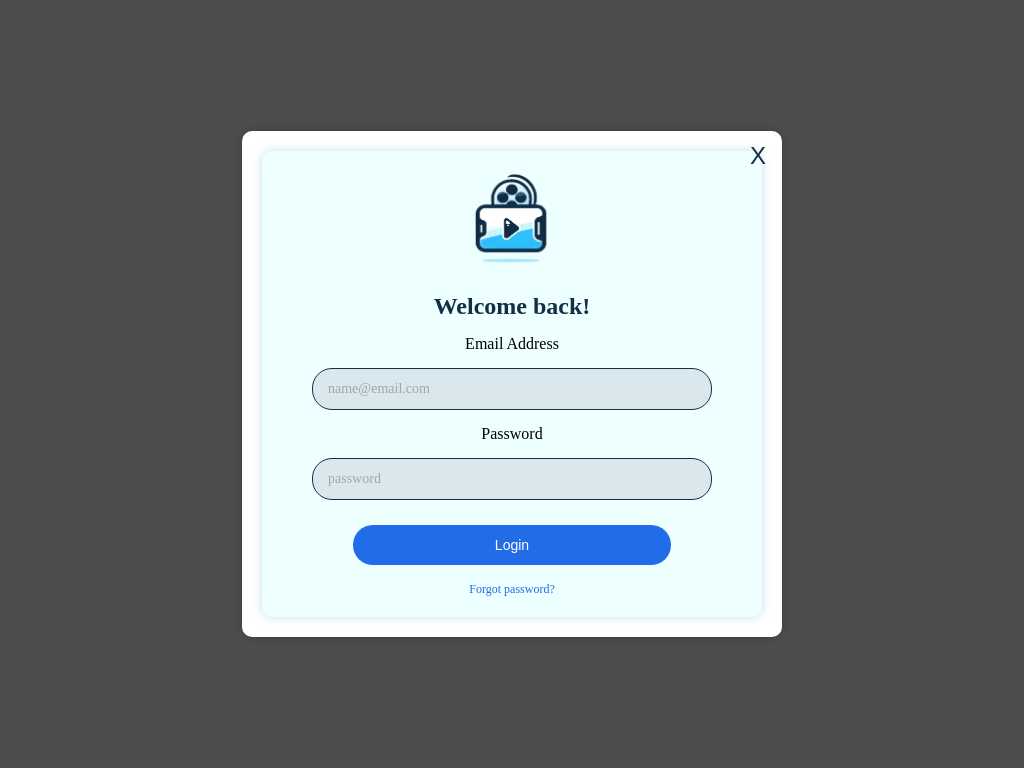
Test: LoginModal › shows error message on failed login
Type "test@example.com" into the field labelled "Email Address". click: (512, 389)
box: [312,368,712,410]
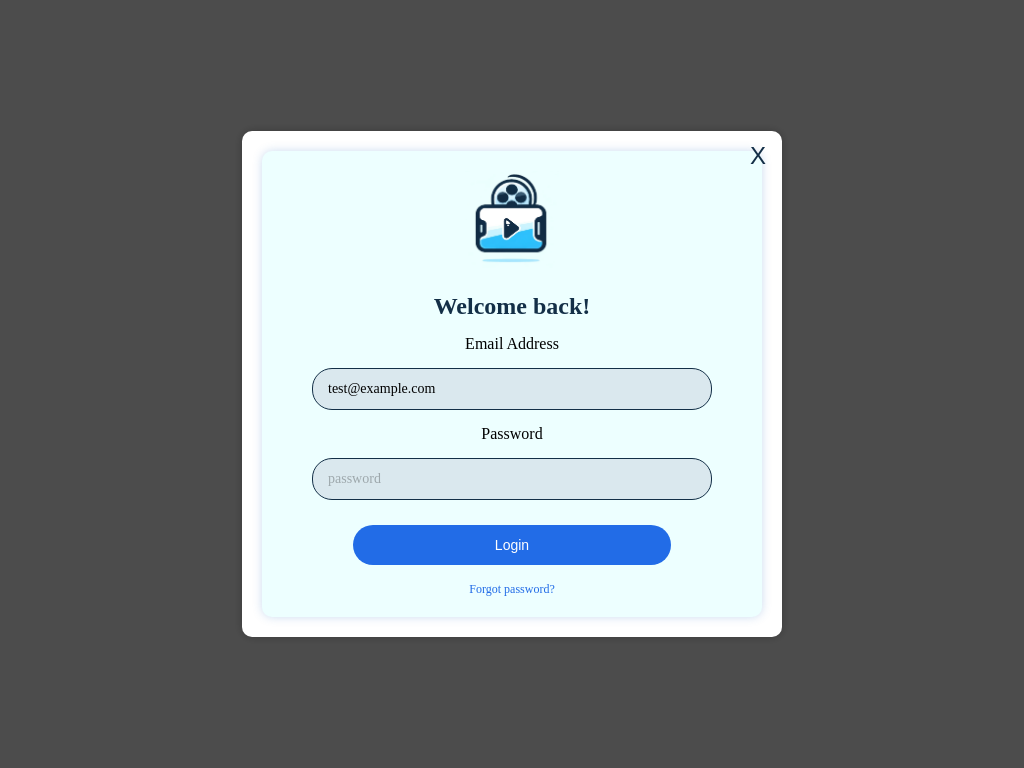
Type "password" into the password field labelled "Password". click: (512, 479)
box: [312,458,712,500]
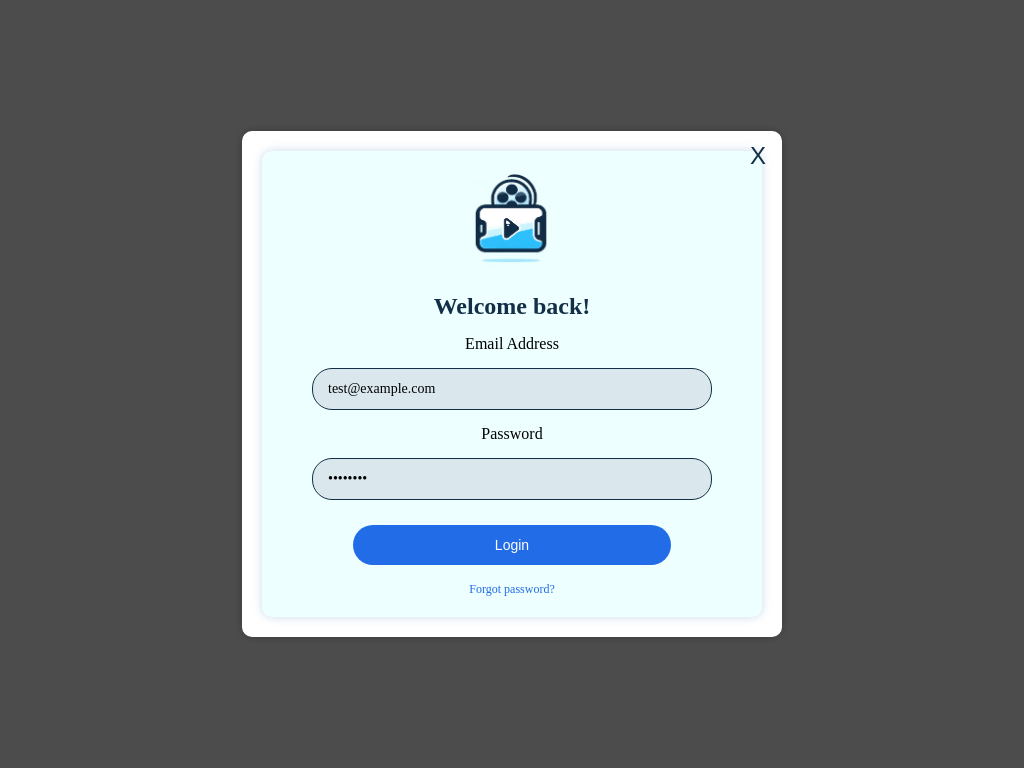
Click the button "Login". click: click(512, 545)
box: [353,525,671,565]
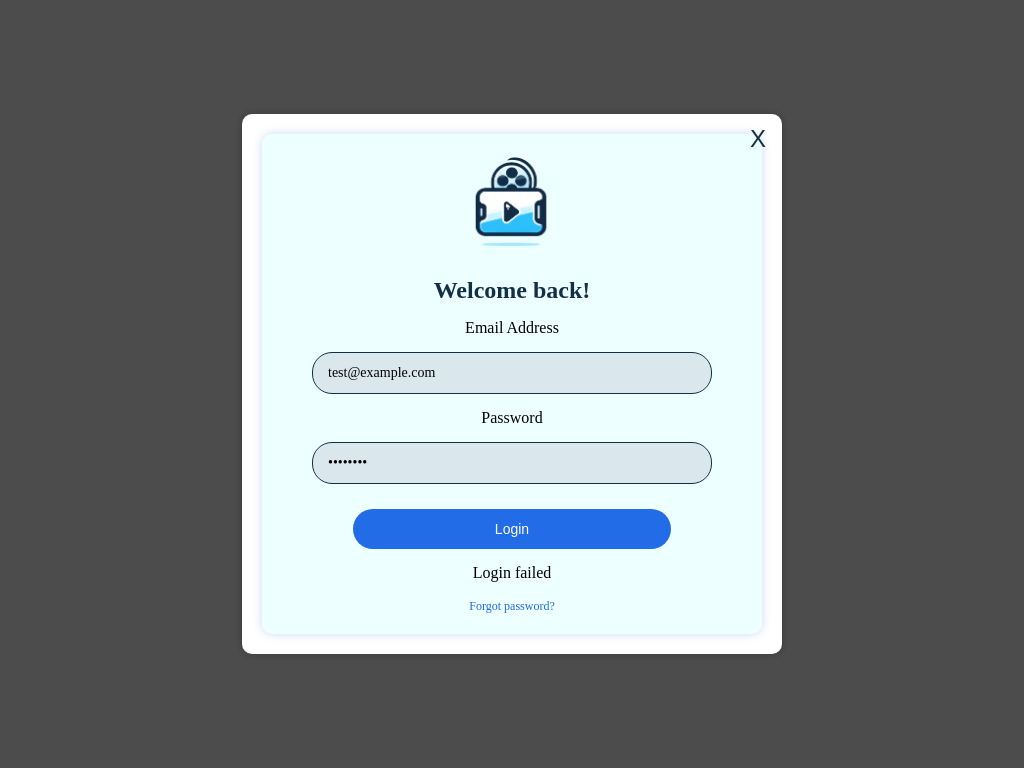
Now the text "Login failed" is shown, box [473,564,551,582]
